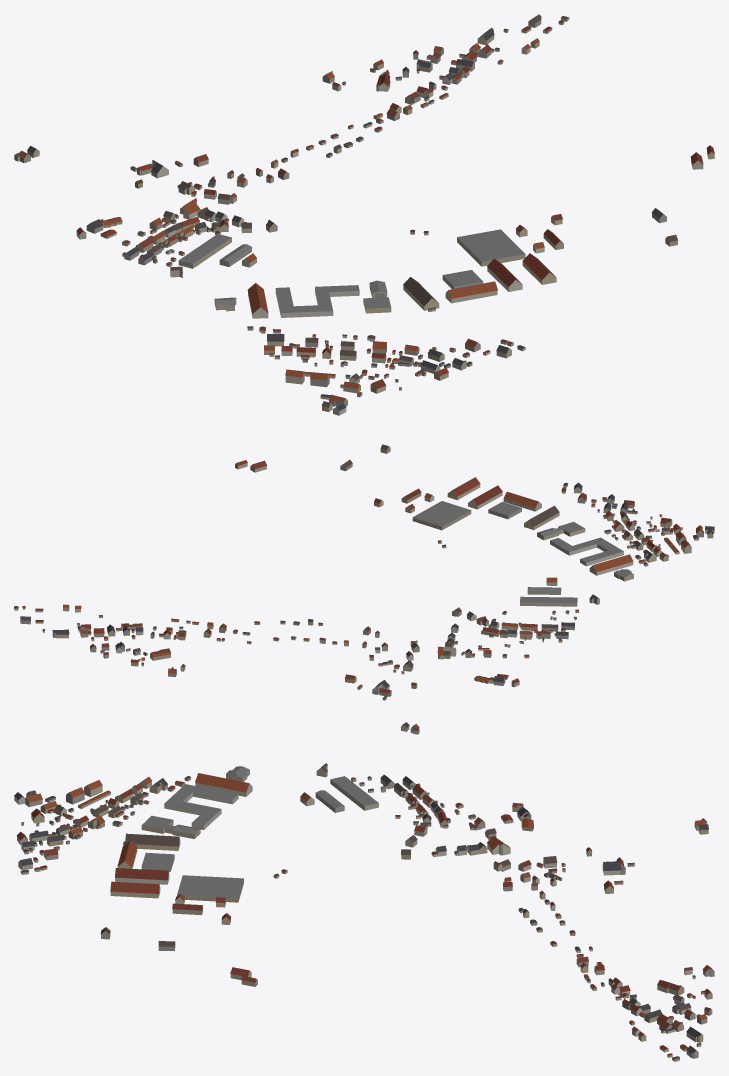
The picture shows the model from 3 angles, top to bottom: view 1: azimuth 30°, elevation 25°; view 2: azimuth 150°, elevation 25°; view 3: azimuth 270°, elevation 25°; orthographic projection. The views are drawn at different scales.
Parts seen in each view (by area): view 1: buildings; view 2: buildings; view 3: buildings.
Part boxes in pixels (x1=…): buildings: x1=14, y1=14, x2=714, y2=415; buildings: x1=14, y1=444, x2=714, y2=734; buildings: x1=14, y1=763, x2=714, y2=1061.
Size of the model in its own units: 759 by 89.86 by 812.
